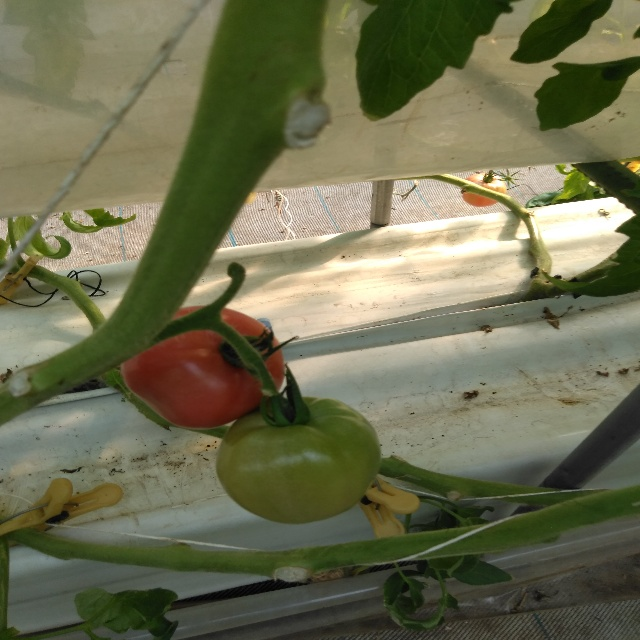b_fully_ripened: (122, 306, 285, 430)
b_green: (217, 397, 382, 525)
b_half_ripened: (462, 173, 507, 207)
